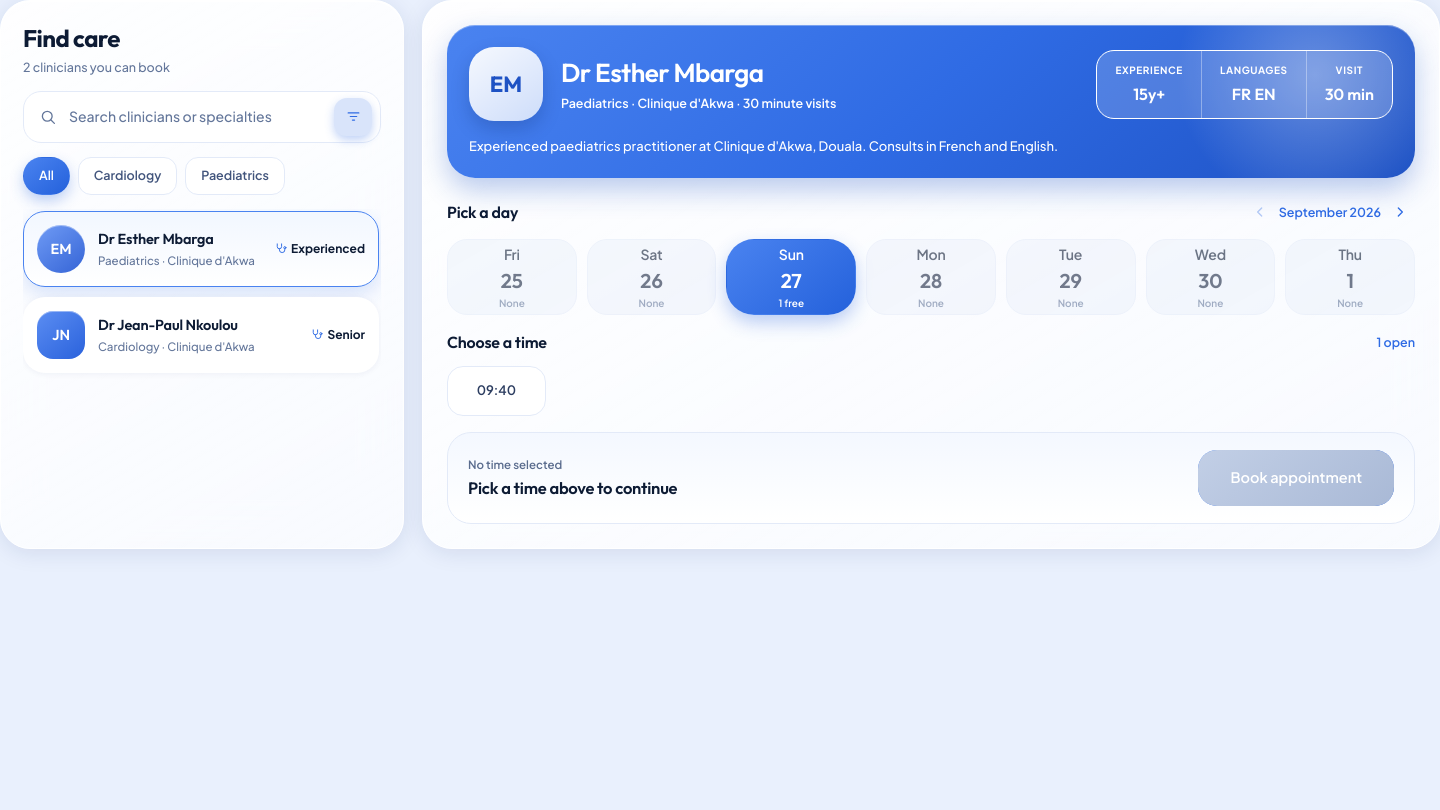
Test: FindCare › offers the closest openings when somebody else took the time
The image size is (1440, 810).
What coordinates should you click on to do the following:
click the radio button labelled "09:40"
I would click on:
 (496, 391)
Its box is [447, 366, 546, 416].
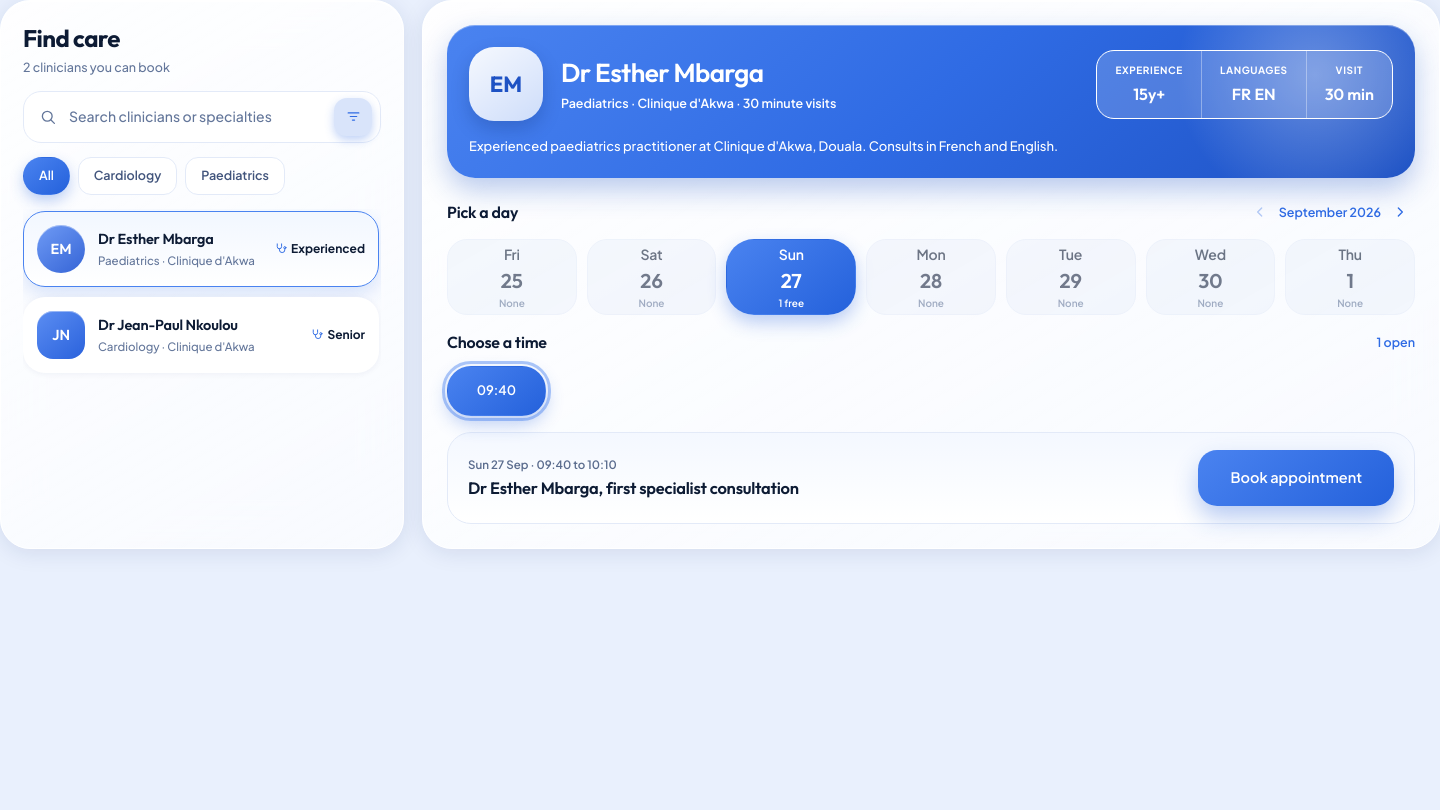
What coordinates should you click on to do the following:
click the button "Book appointment"
I would click on:
 (1296, 478)
Its box is [1198, 450, 1394, 506].
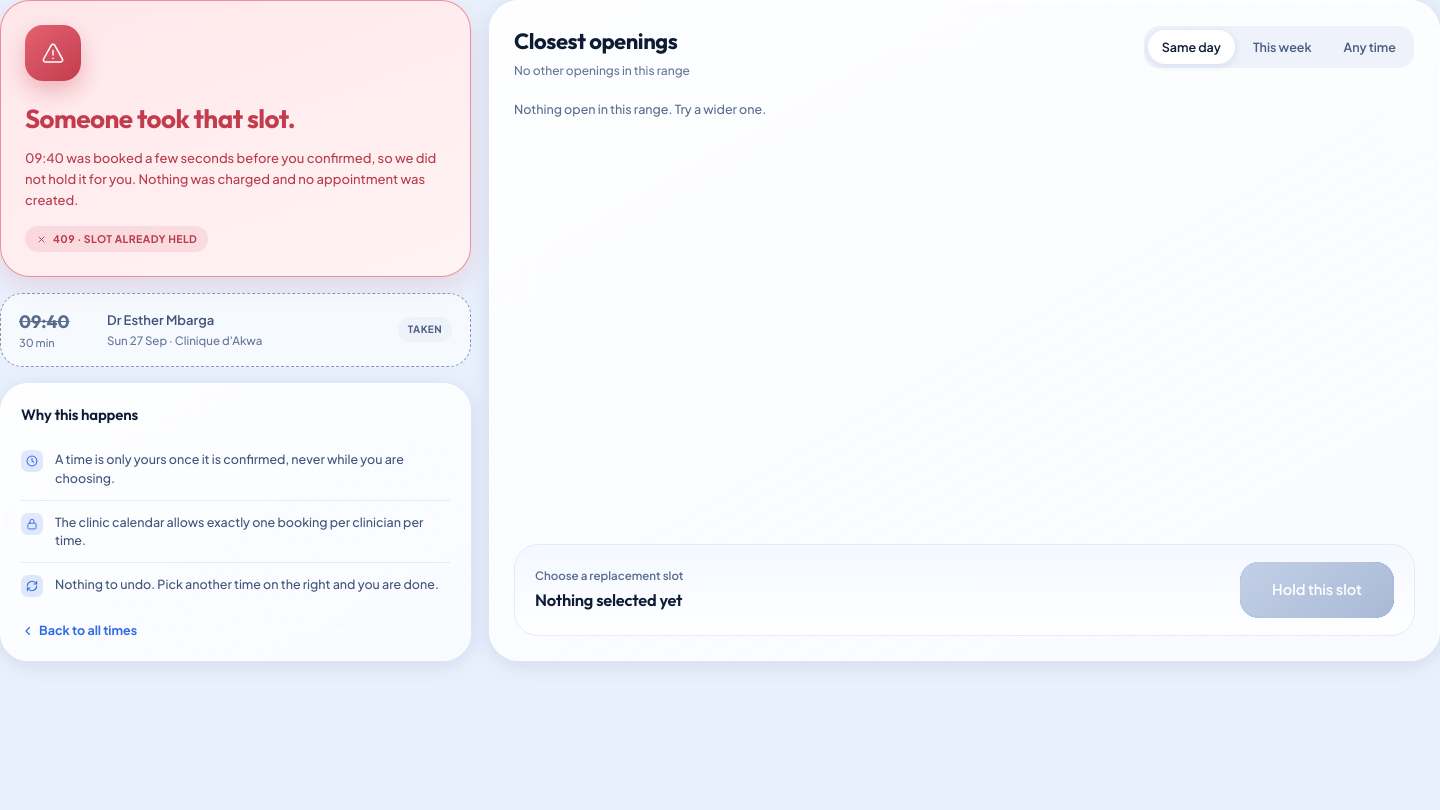
Expected: the heading "Someone took that slot." is shown, [25, 102, 295, 135]
Expected: the element named "The time that was taken" shows "TAKEN", [408, 323, 442, 335]
Expected: the text "No other openings in this range" is shown, [514, 62, 690, 80]
